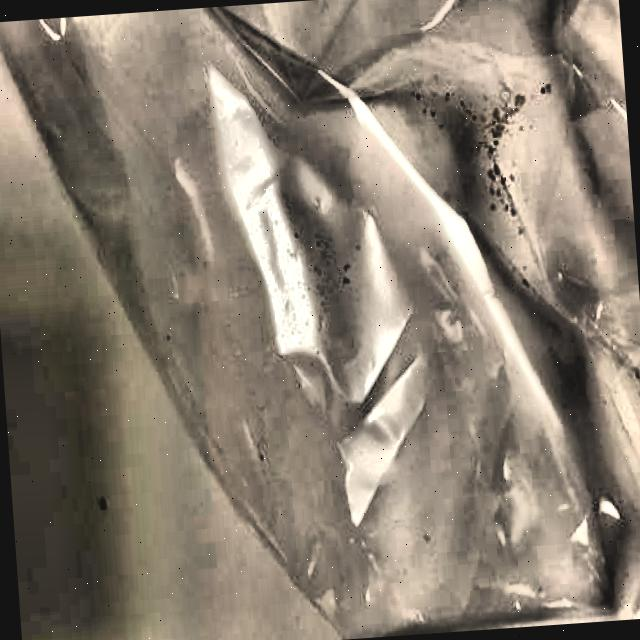trash: (98, 11, 592, 604)
